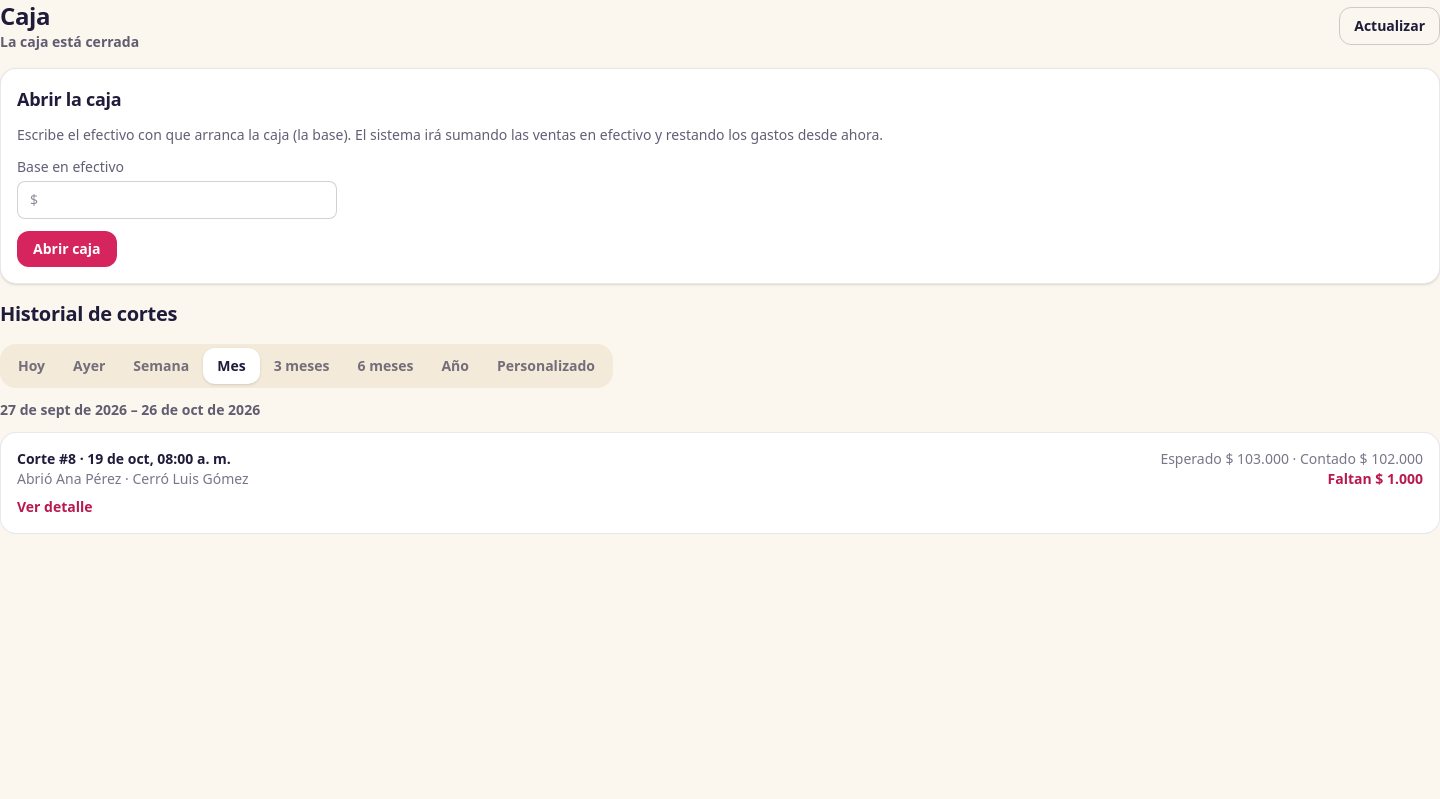
Test: Caja — abrir › con la caja cerrada pide la base y la abre
Expected: the text "La caja está cerrada" is shown, [0,32,139,52]
Type "100000" into the number field labelled "Base en efectivo".
click(177, 200); type("100000")  # box [17,181,337,219]
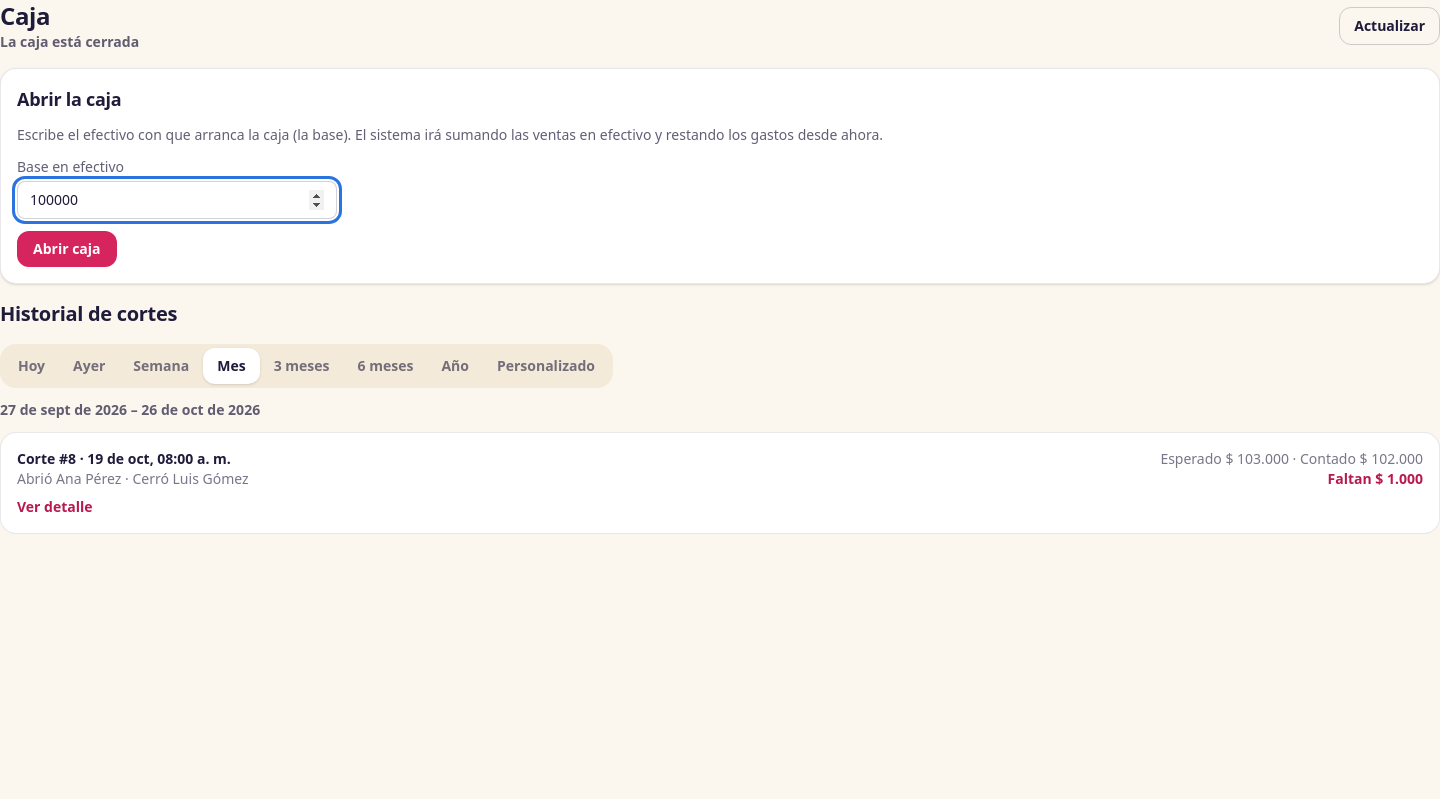
Click the button "Abrir caja".
click(67, 249)  # box [17,231,116,267]
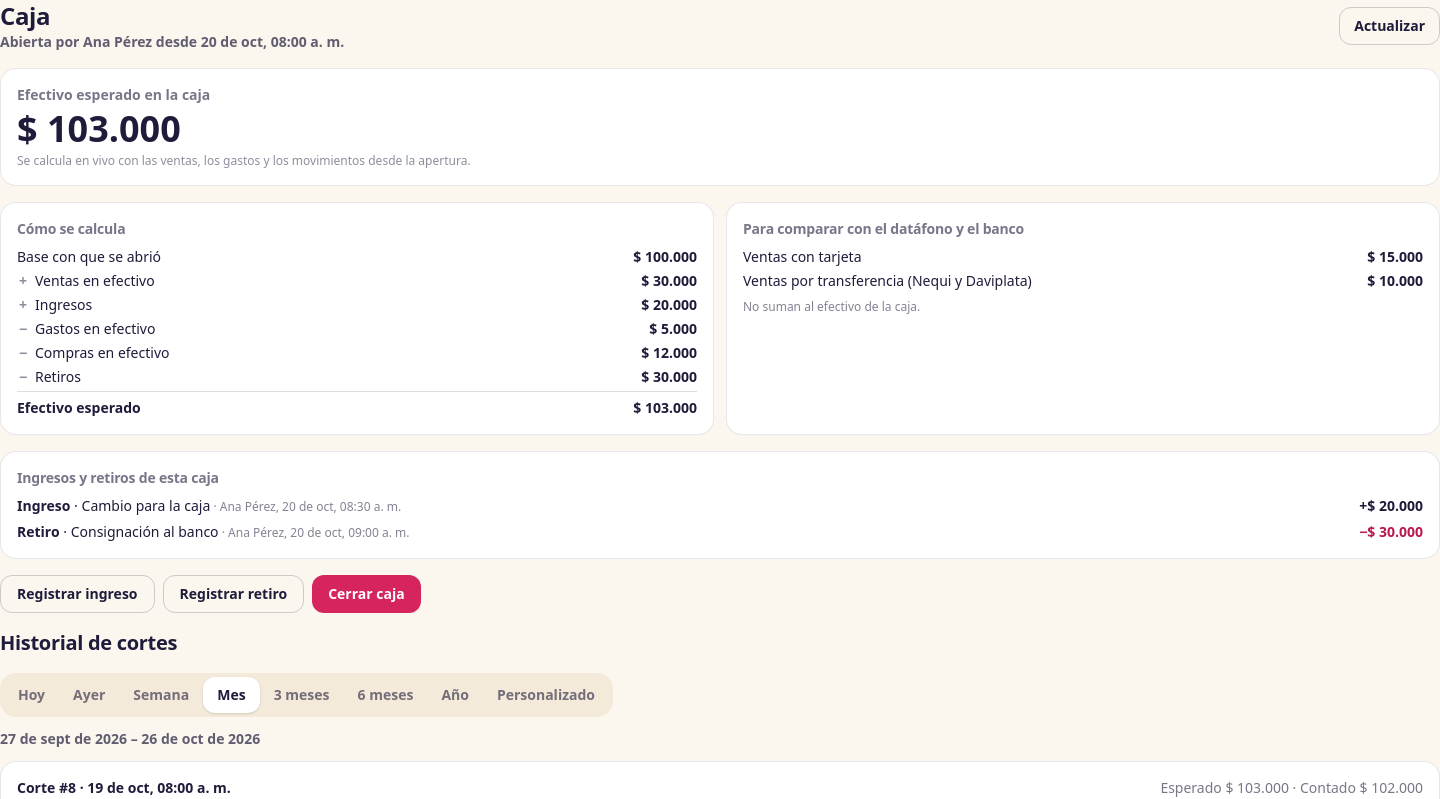
Expected: the text "Abierta por Ana Pérez desde 20 de oct, 08:00 a. m." is shown, [0,32,344,52]
